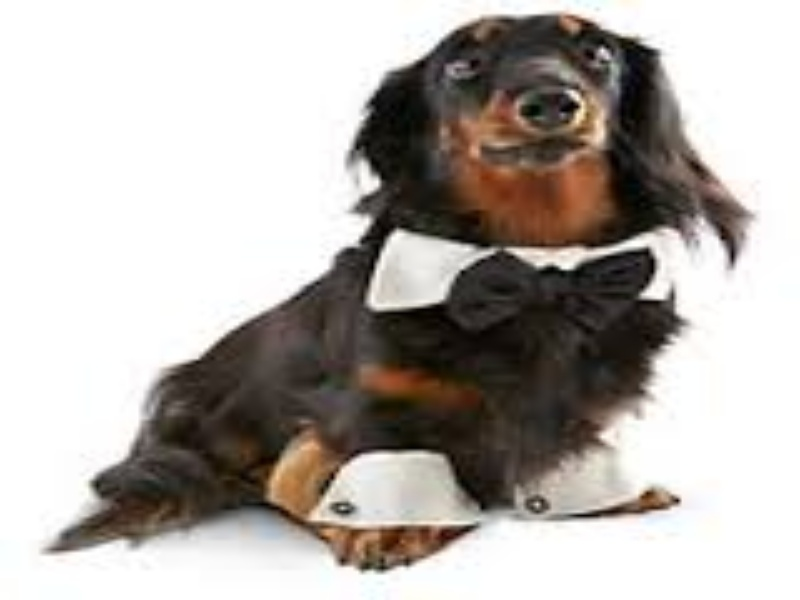dog: (76, 8, 748, 577)
